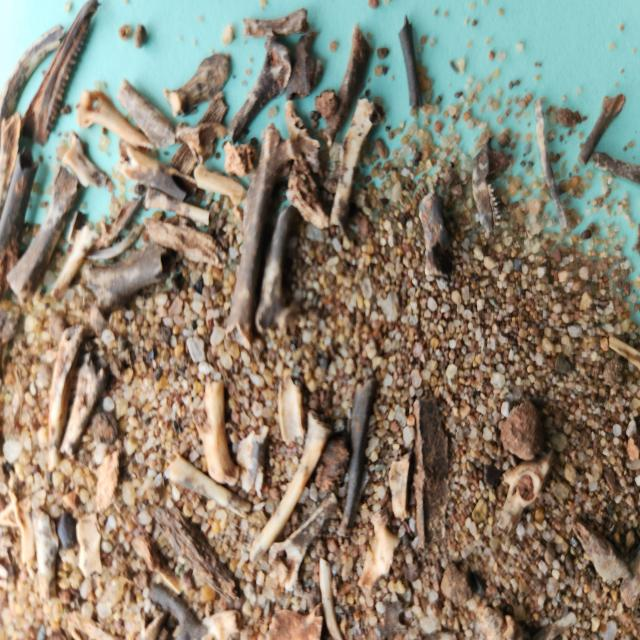fossil: (222, 122, 304, 357), (247, 404, 334, 568), (14, 0, 103, 149), (11, 157, 88, 306), (148, 500, 250, 606), (76, 236, 186, 313), (410, 388, 456, 565), (337, 365, 383, 541), (42, 323, 94, 475), (266, 490, 338, 594), (225, 38, 295, 142), (0, 21, 68, 128), (321, 19, 376, 151), (162, 90, 233, 192), (328, 94, 377, 239), (492, 443, 562, 542), (185, 374, 242, 489), (162, 451, 255, 521), (110, 137, 204, 203), (255, 200, 302, 332), (531, 93, 573, 238), (162, 46, 240, 124), (138, 212, 233, 272), (74, 87, 156, 156), (59, 355, 110, 462), (570, 516, 636, 593), (0, 140, 42, 254), (116, 74, 179, 150), (143, 580, 221, 640), (418, 181, 459, 294), (47, 216, 98, 306), (126, 524, 188, 597), (576, 89, 628, 171), (356, 507, 405, 594), (314, 549, 360, 640), (468, 133, 503, 245), (492, 392, 547, 462), (52, 130, 110, 195), (283, 30, 332, 104), (140, 185, 215, 233), (234, 419, 274, 507), (284, 158, 332, 230), (169, 116, 237, 163), (394, 8, 424, 114), (312, 425, 356, 496), (239, 6, 320, 44), (34, 502, 62, 607), (283, 98, 325, 166), (92, 444, 132, 514), (257, 602, 330, 640), (466, 593, 525, 640), (0, 111, 26, 215), (274, 371, 308, 450), (96, 192, 141, 251), (192, 161, 246, 208), (67, 287, 113, 342), (72, 510, 106, 580), (84, 225, 144, 264), (65, 607, 132, 640), (591, 147, 640, 192), (220, 133, 264, 180), (386, 446, 412, 523), (11, 490, 38, 563), (604, 331, 640, 378), (584, 391, 586, 392)
